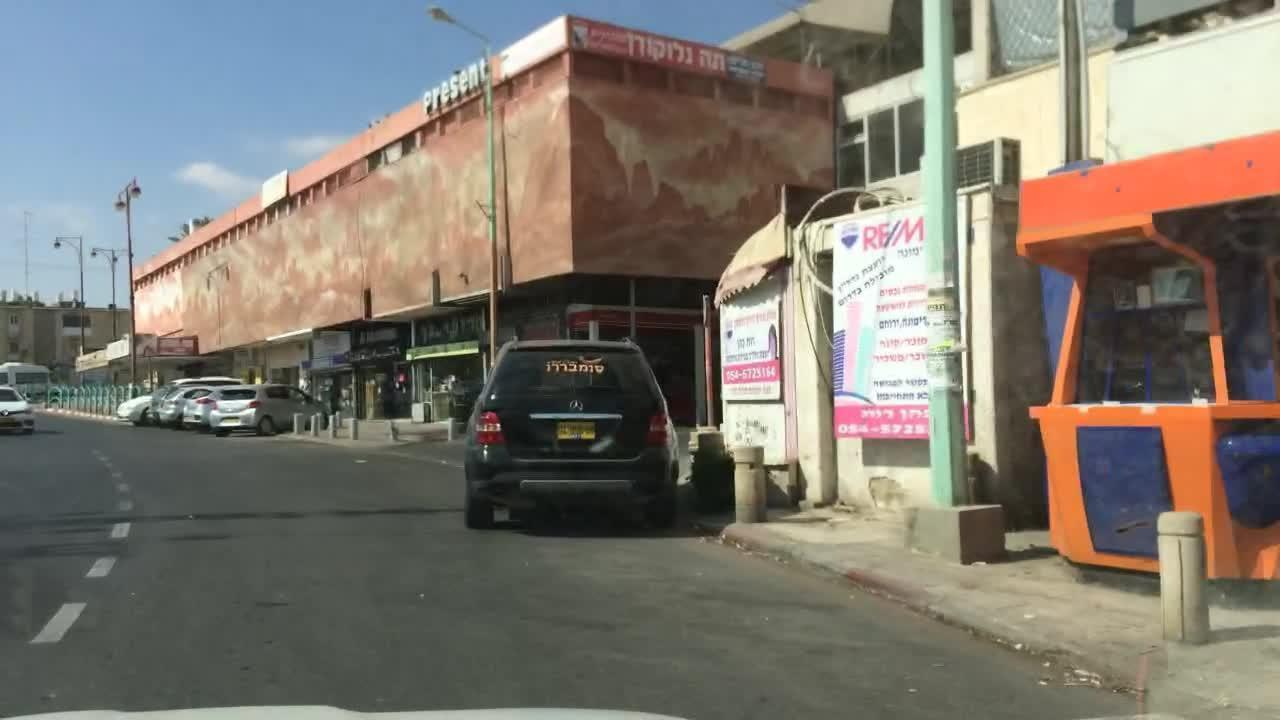Mercedes: (567, 394, 587, 418)
